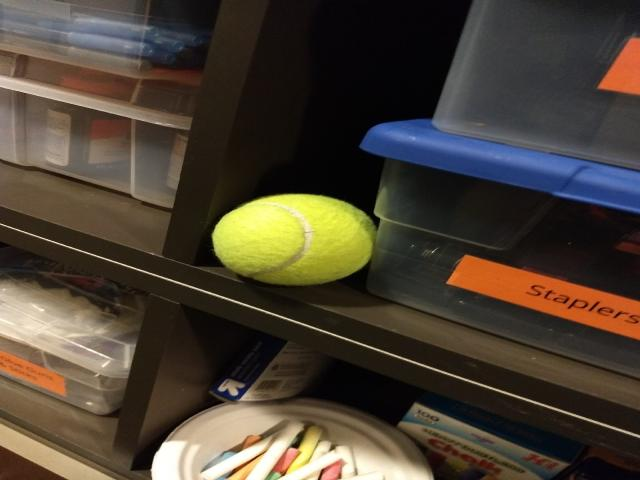tennis-ball: (212, 194, 376, 286)
